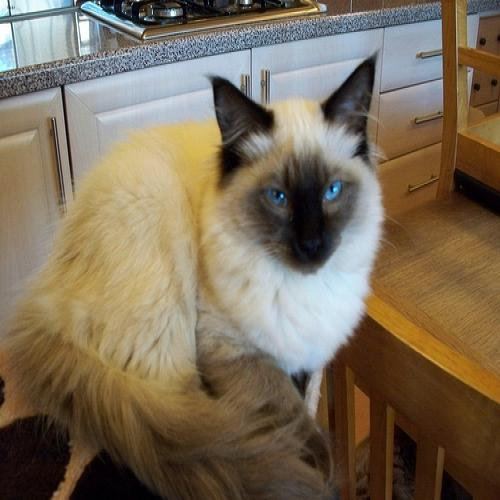ragdoll: (201, 52, 386, 284)
